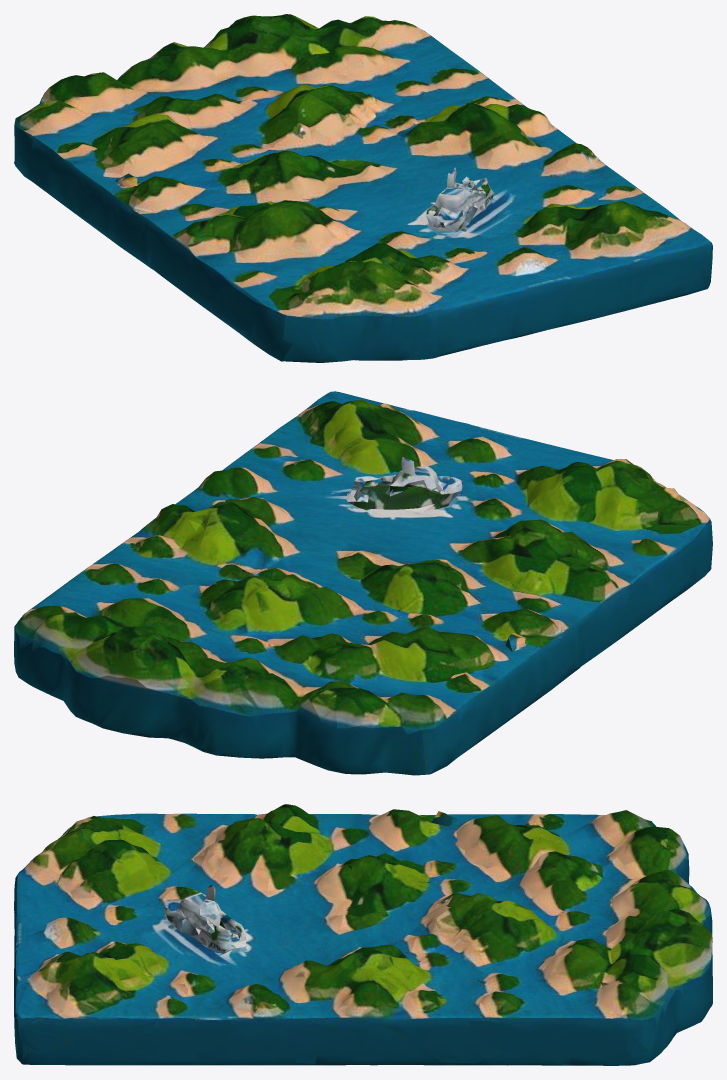
Rendered from kujukushima.glb.
3 views of the same model, one above another, from view 1: azimuth 30°, elevation 25°; view 2: azimuth 150°, elevation 25°; view 3: azimuth 270°, elevation 25° (orthographic). The views are drawn at different scales.
Parts seen in each view (by area): view 1: logan-textured.obj; view 2: logan-textured.obj; view 3: logan-textured.obj.
Boxes of the visible parts, left/top/right/bottom form: logan-textured.obj: left=14, top=14, right=712, bottom=362; logan-textured.obj: left=14, top=391, right=712, bottom=775; logan-textured.obj: left=14, top=804, right=712, bottom=1065.
Bounding box in the file's own units: 0.6977 × 0.1543 × 1.
Materials: 1 (1 with a texture image).
